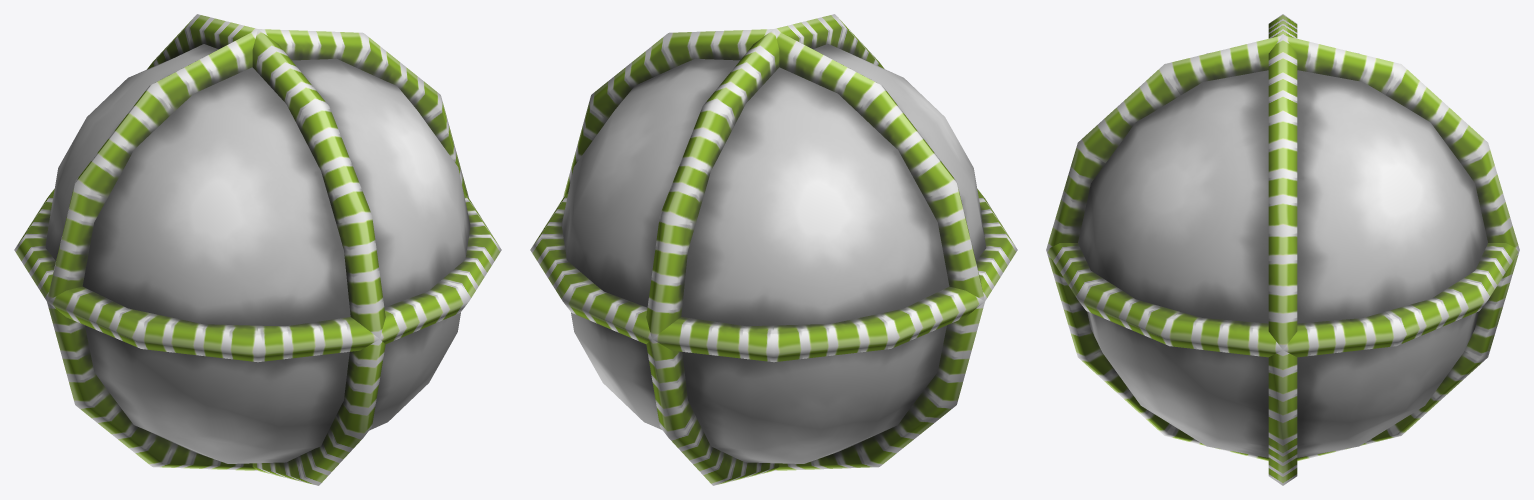
The model's file is bola.fbx.
3 views of the same model, side by side, from view 1: azimuth 30°, elevation 25°; view 2: azimuth 150°, elevation 25°; view 3: azimuth 270°, elevation 25° (orthographic). The views are drawn at different scales.
Visible parts, largest first — view 1: Bola; view 2: Bola; view 3: Bola.
Part boxes in pixels (left/top/right/bottom): Bola: left=14, top=14, right=501, bottom=485; Bola: left=530, top=14, right=1017, bottom=485; Bola: left=1046, top=14, right=1519, bottom=485.
Bounding box in the file's own units: 105 × 105 × 105.
